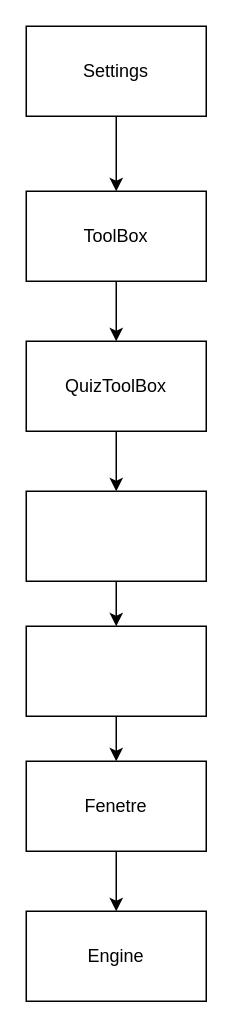
This 233x1028 diagram has some shape labels left out. The centre of each missing label's shape, as x and y in pixels:
FenetreBuilder: (x=115, y=535)
FenetreSetup: (x=115, y=670)
